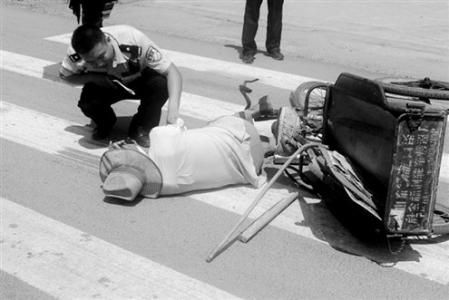fall: (103, 95, 296, 208)
